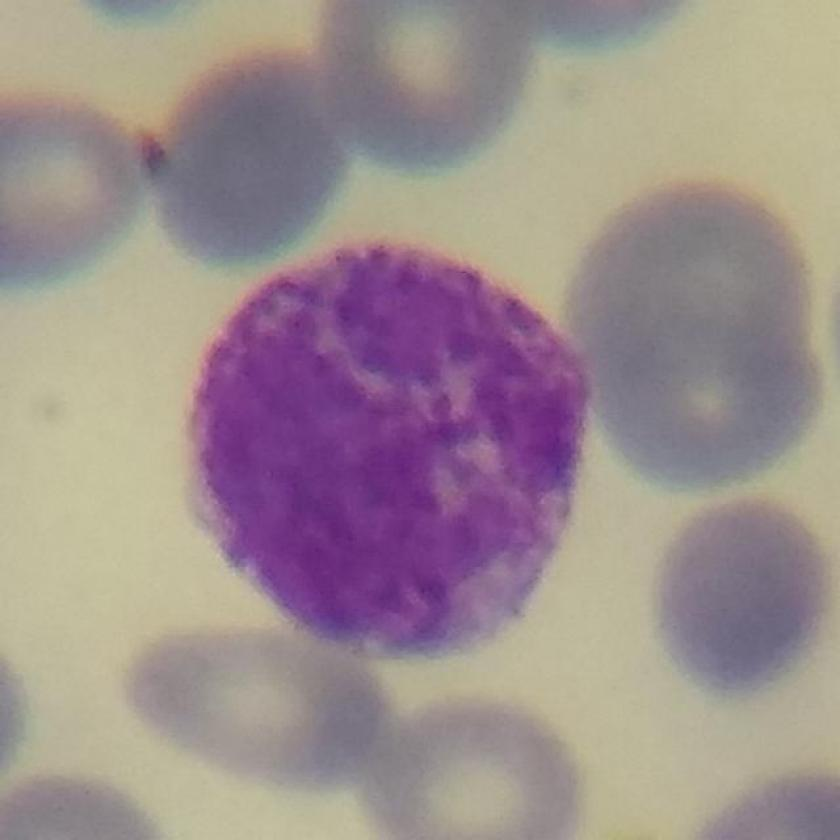basophil: (178, 229, 606, 669)
